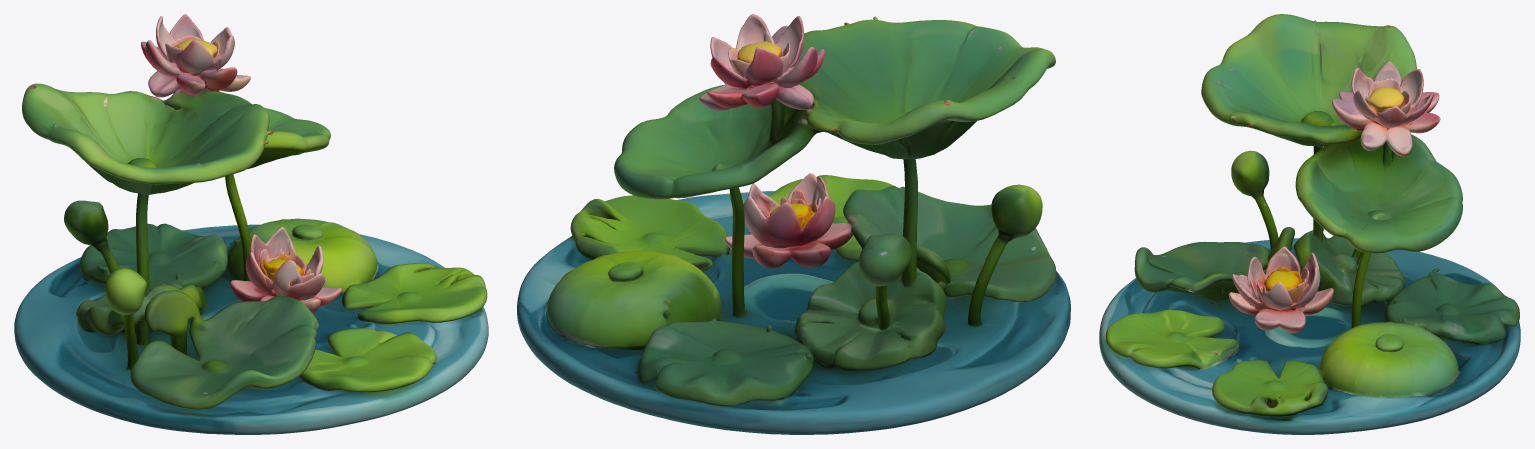
The model's file is nature-lotus.glb.
The picture shows the model from 3 angles, left to right: view 1: azimuth 30°, elevation 25°; view 2: azimuth 150°, elevation 25°; view 3: azimuth 270°, elevation 25°; orthographic projection. The views are drawn at different scales.
Parts seen in each view (by area): view 1: tripo_node_0c1e79fb-63bc-447f-8ad4-d23f5587e454; view 2: tripo_node_0c1e79fb-63bc-447f-8ad4-d23f5587e454; view 3: tripo_node_0c1e79fb-63bc-447f-8ad4-d23f5587e454.
Part boxes in pixels (x1,y1,x2,y2): tripo_node_0c1e79fb-63bc-447f-8ad4-d23f5587e454: [14, 14, 488, 434]; tripo_node_0c1e79fb-63bc-447f-8ad4-d23f5587e454: [517, 14, 1070, 434]; tripo_node_0c1e79fb-63bc-447f-8ad4-d23f5587e454: [1099, 14, 1520, 434].
Size of the model in its own units: 0.4462 by 0.3 by 0.4337.
1 material, 1 textured.
